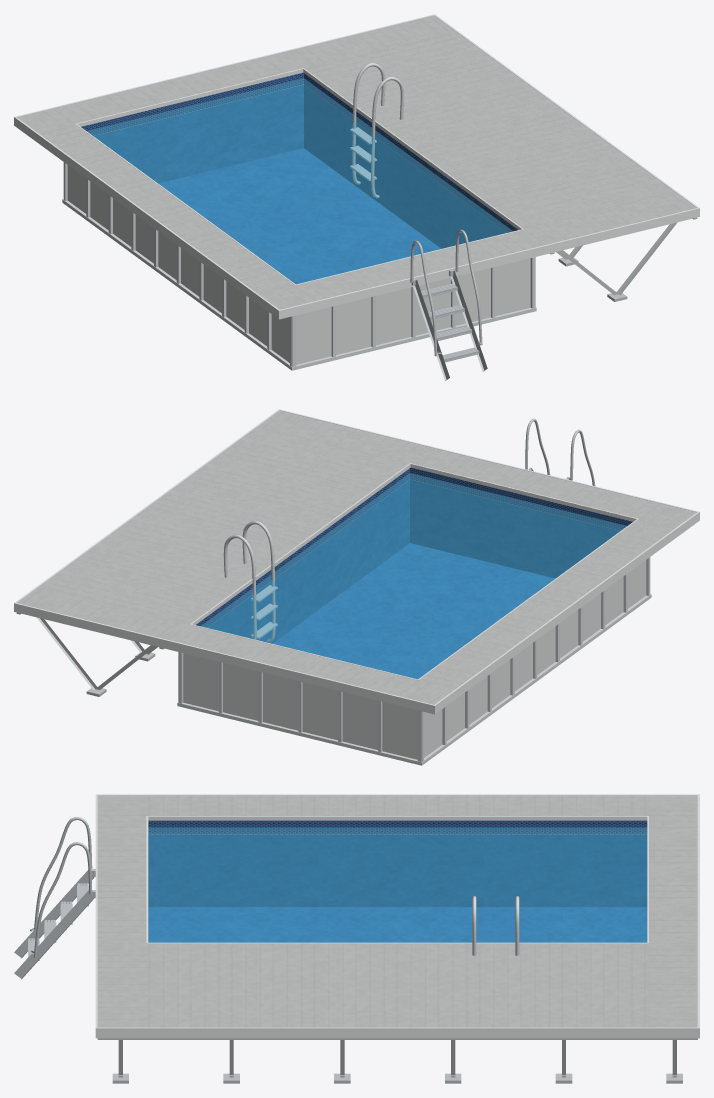
File: kayak-pool-12x20-white-side-ag-nofence.206e8666e5.glb
3 views of the same model, one above another, from view 1: azimuth 30°, elevation 25°; view 2: azimuth 150°, elevation 25°; view 3: azimuth 270°, elevation 25° (orthographic). The views are drawn at different scales.
Visible parts, largest first — view 1: deck, water, liner_wall, liner_floor, wall, fascia, upright, ladder, steel, stud; view 2: deck, water, liner_wall, liner_floor, wall, fascia, upright, steel, stud, ladder; view 3: deck, water, liner_wall, liner_floor, fascia, ladder, stud, steel.
Part boxes in pixels (left/top/right/bottom): deck: left=17, top=15, right=696, bottom=309; water: left=87, top=78, right=512, bottom=284; liner_wall: left=81, top=72, right=517, bottom=248; liner_floor: left=159, top=148, right=440, bottom=284; wall: left=67, top=165, right=530, bottom=364; fascia: left=14, top=14, right=699, bottom=319; upright: left=62, top=162, right=536, bottom=370; ladder: left=410, top=229, right=487, bottom=380; steel: left=350, top=63, right=403, bottom=198; stud: left=550, top=217, right=697, bottom=301; deck: left=17, top=410, right=696, bottom=704; water: left=201, top=473, right=626, bottom=679; liner_wall: left=196, top=467, right=632, bottom=643; liner_floor: left=272, top=543, right=554, bottom=679; wall: left=183, top=560, right=646, bottom=759; fascia: left=14, top=409, right=699, bottom=714; upright: left=177, top=557, right=651, bottom=765; steel: left=223, top=521, right=277, bottom=642; stud: left=16, top=612, right=164, bottom=696; ladder: left=525, top=418, right=595, bottom=485; deck: left=97, top=795, right=697, bottom=1027; water: left=148, top=827, right=647, bottom=942; liner_wall: left=148, top=820, right=647, bottom=907; liner_floor: left=148, top=907, right=647, bottom=942; fascia: left=95, top=794, right=699, bottom=1038; ladder: left=14, top=817, right=95, bottom=979; stud: left=97, top=1038, right=697, bottom=1083; steel: left=472, top=896, right=519, bottom=955.
Bounding box in the file's own units: 6.71 × 1.9 × 8.3.
Materials: 10 (3 with a texture image).
